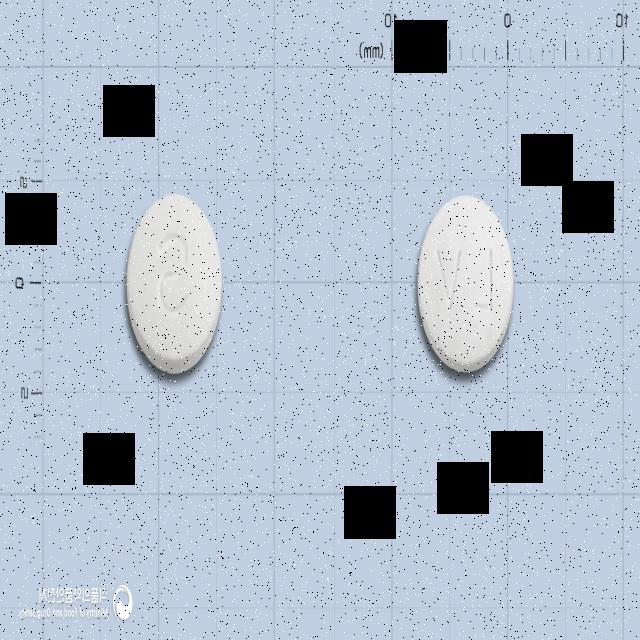Levobacter: (415, 192, 515, 373), (125, 191, 222, 374)
